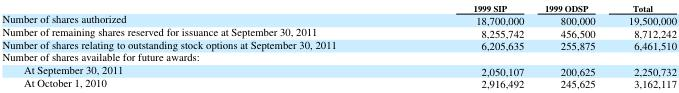table: (1, 1, 676, 90)
table column: (1, 1, 404, 90), (404, 1, 533, 90), (533, 1, 611, 90), (611, 1, 676, 90)
table column header: (1, 1, 676, 12)
table projected row header: (1, 50, 676, 62)
table row: (1, 62, 676, 76), (1, 76, 676, 90), (1, 12, 676, 25), (1, 25, 676, 38), (1, 38, 676, 50), (1, 50, 676, 62), (1, 1, 676, 12)
